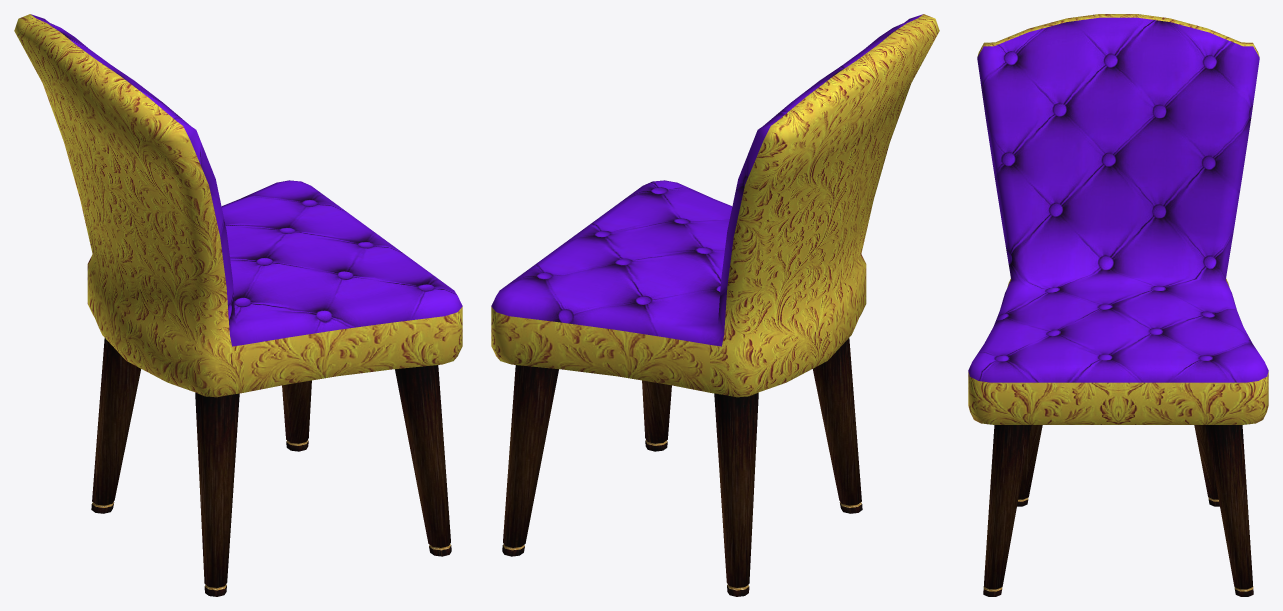
File: Sillas_1.fbx
3 views of the same model, side by side, from view 1: azimuth 30°, elevation 25°; view 2: azimuth 150°, elevation 25°; view 3: azimuth 270°, elevation 25° (orthographic). The views are drawn at different scales.
Visible parts, largest first — view 1: Cube.130; view 2: Cube.130; view 3: Cube.130.
Boxes of the visible parts, x1,y1,x2,y2 form: Cube.130: (14, 14, 462, 596); Cube.130: (491, 14, 939, 596); Cube.130: (968, 14, 1268, 596).
Size of the model in its own units: 62.25 by 95.83 by 57.49.
